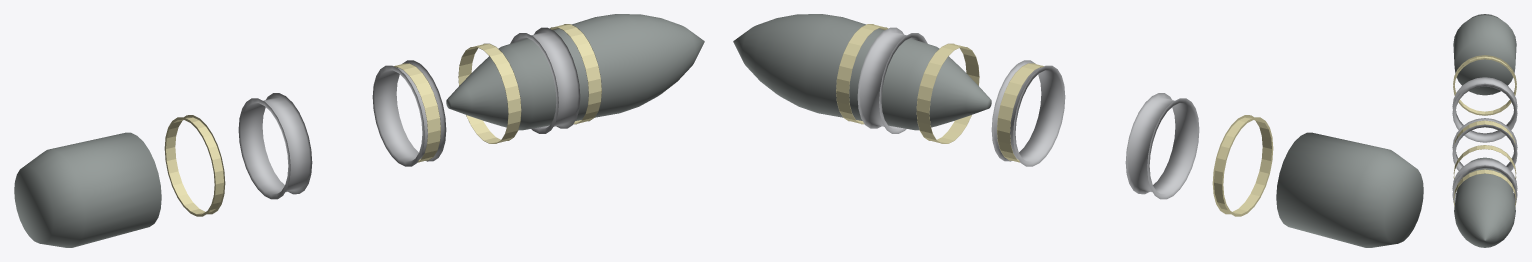
The model's file is RU_SLBM_R29RM_LOD1.fbx.
The picture shows the model from 3 angles, left to right: view 1: azimuth 30°, elevation 25°; view 2: azimuth 150°, elevation 25°; view 3: azimuth 270°, elevation 25°; orthographic projection. The views are drawn at different scales.
Visible parts, largest first — view 1: WPN_RU_SLBM_R29RM_LOD1_Body, WPN_RU_SLBM_R29RM_LOD1_Tail, WPN_RU_SLBM_R29RM_LOD1_Detail, WPN_RU_SLBM_R29RM_LOD1_Marking; view 2: WPN_RU_SLBM_R29RM_LOD1_Body, WPN_RU_SLBM_R29RM_LOD1_Tail, WPN_RU_SLBM_R29RM_LOD1_Detail, WPN_RU_SLBM_R29RM_LOD1_Marking; view 3: WPN_RU_SLBM_R29RM_LOD1_Body, WPN_RU_SLBM_R29RM_LOD1_Tail, WPN_RU_SLBM_R29RM_LOD1_Detail, WPN_RU_SLBM_R29RM_LOD1_Marking.
Boxes of the visible parts, box(x1,y1,x2,y2) form: WPN_RU_SLBM_R29RM_LOD1_Body: box(446, 14, 704, 130); WPN_RU_SLBM_R29RM_LOD1_Tail: box(14, 132, 161, 247); WPN_RU_SLBM_R29RM_LOD1_Detail: box(238, 27, 580, 199); WPN_RU_SLBM_R29RM_LOD1_Marking: box(164, 24, 601, 216); WPN_RU_SLBM_R29RM_LOD1_Body: box(733, 14, 991, 130); WPN_RU_SLBM_R29RM_LOD1_Tail: box(1276, 132, 1423, 247); WPN_RU_SLBM_R29RM_LOD1_Detail: box(857, 27, 1199, 199); WPN_RU_SLBM_R29RM_LOD1_Marking: box(836, 24, 1273, 216); WPN_RU_SLBM_R29RM_LOD1_Body: box(1454, 157, 1515, 247); WPN_RU_SLBM_R29RM_LOD1_Tail: box(1453, 14, 1516, 95); WPN_RU_SLBM_R29RM_LOD1_Detail: box(1452, 77, 1517, 203); WPN_RU_SLBM_R29RM_LOD1_Marking: box(1453, 55, 1516, 206).
Bounding box in the file's own units: 14.8 × 2 × 2.
